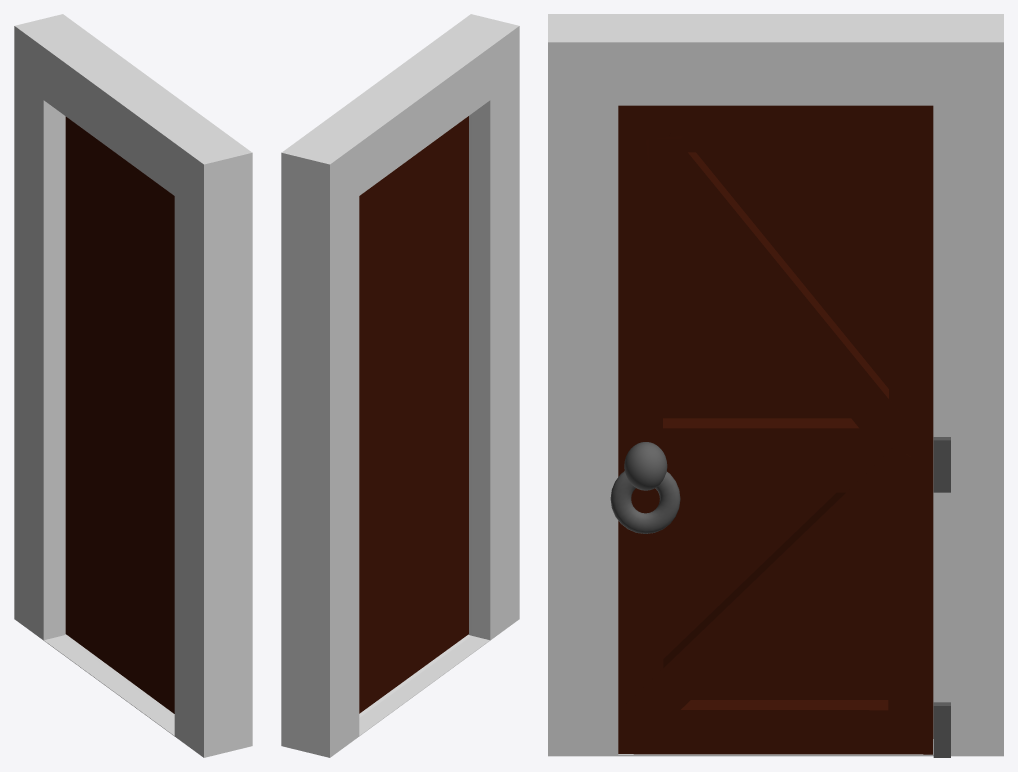
3 renders of one model, left to right at view 1: azimuth 30°, elevation 25°; view 2: azimuth 150°, elevation 25°; view 3: azimuth 270°, elevation 25°, orthographic. The views are drawn at different scales.
Parts seen in each view (by area): view 1: Door Frame, Door; view 2: Door Frame, Door; view 3: Door, Door Frame, Box003, Box004.
Part boxes in pixels (x1,y1,x2,y2): Door Frame: (14, 14, 252, 757); Door: (65, 116, 174, 713); Door Frame: (281, 14, 519, 757); Door: (359, 116, 468, 713); Door: (610, 105, 933, 754); Door Frame: (548, 14, 1003, 756); Box003: (933, 437, 950, 492); Box004: (933, 702, 950, 757).
Size of the model in its own units: 7.07 by 57.28 by 33.16.
